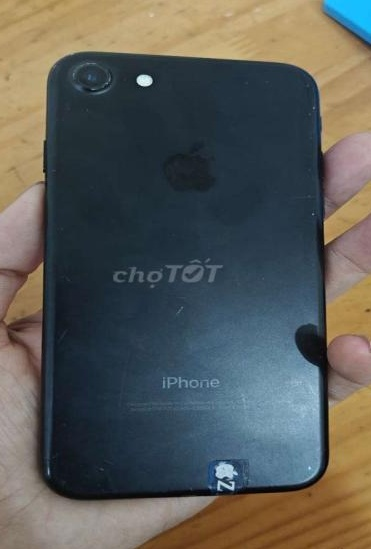scratch: (239, 63, 324, 226), (37, 448, 320, 492), (36, 154, 108, 234), (40, 266, 79, 349), (61, 52, 116, 93), (54, 95, 107, 127), (108, 347, 128, 426), (227, 386, 256, 425), (296, 372, 327, 398), (163, 296, 190, 318)
